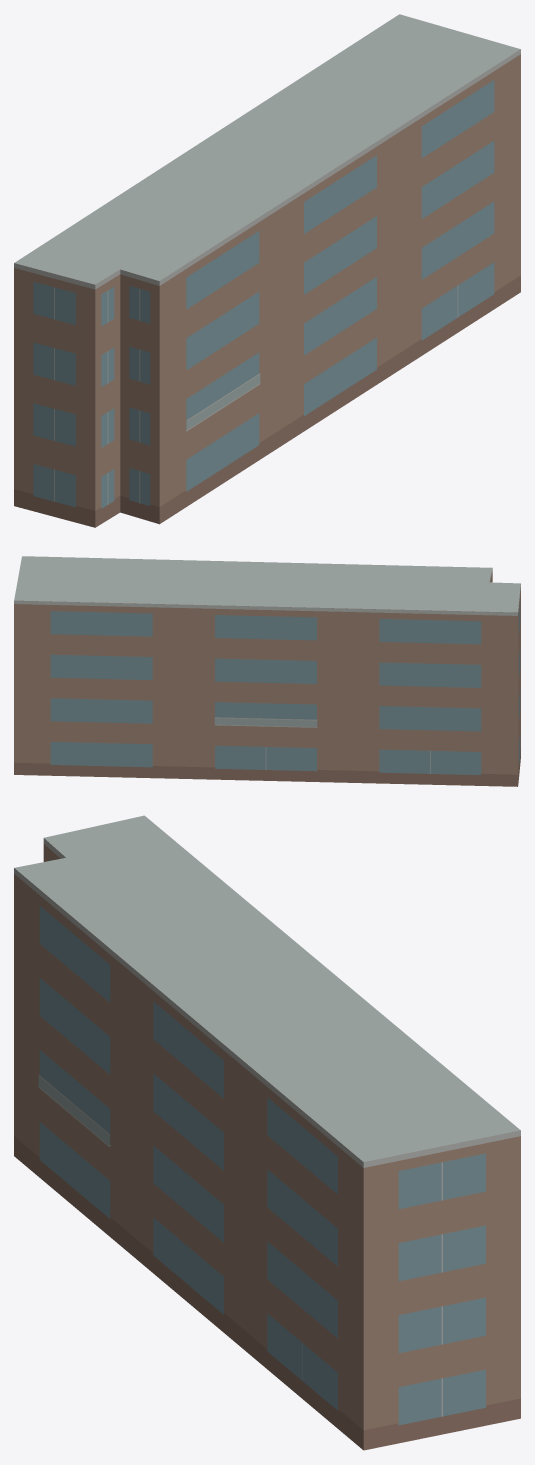
The model's file is survey-upis-32486016.glb.
The picture shows the model from 3 angles, top to bottom: view 1: azimuth 30°, elevation 25°; view 2: azimuth 150°, elevation 25°; view 3: azimuth 270°, elevation 25°; orthographic projection. The views are drawn at different scales.
Parts seen in each view (by area): view 1: survey-upis-32486016.tmp; view 2: survey-upis-32486016.tmp; view 3: survey-upis-32486016.tmp.
Boxes of the visible parts, x1,y1,x2,y2 form: survey-upis-32486016.tmp: (14,14,520,527); survey-upis-32486016.tmp: (14,556,520,786); survey-upis-32486016.tmp: (14,815,520,1450).
Size of the model in its own units: 31.49 by 12.2 by 19.45.
